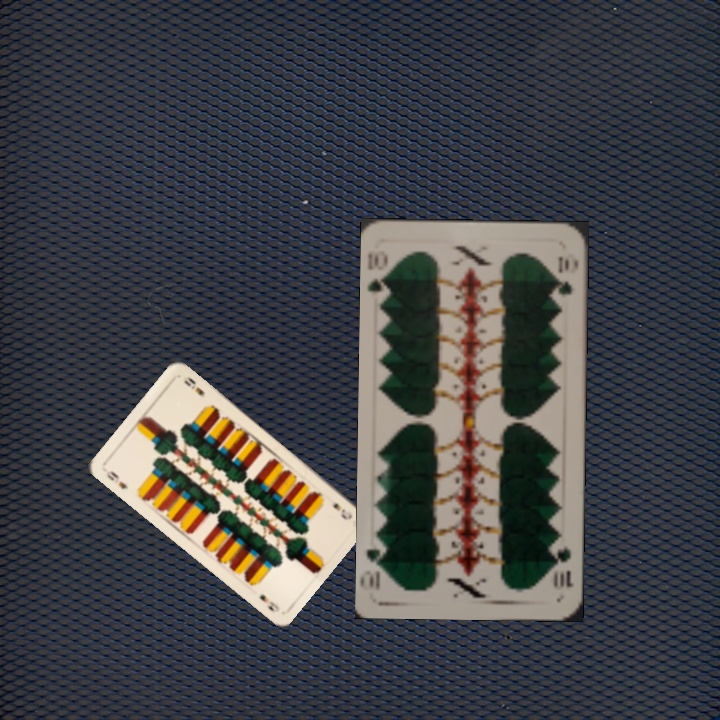E9: (102, 467, 130, 492), (329, 499, 355, 522)
G10: (366, 246, 394, 302), (548, 536, 575, 591)
